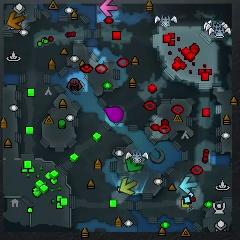p3: (103, 106, 125, 123)
x1: (99, 0, 120, 16)
x2: (119, 177, 138, 196)
x3: (180, 176, 197, 196)
x4: (125, 157, 143, 174)
x5: (6, 10, 25, 31)
